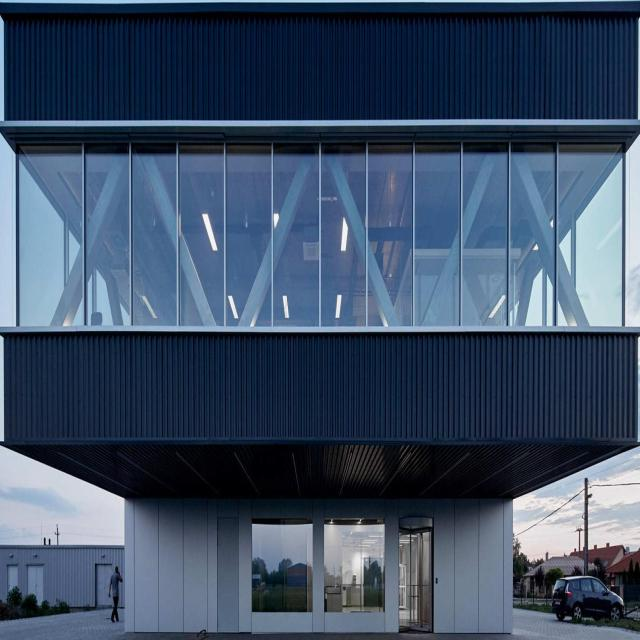door: (399, 522, 433, 634)
wall: (3, 0, 640, 633)
windows: (14, 148, 626, 325), (251, 522, 314, 610), (324, 521, 385, 611)
